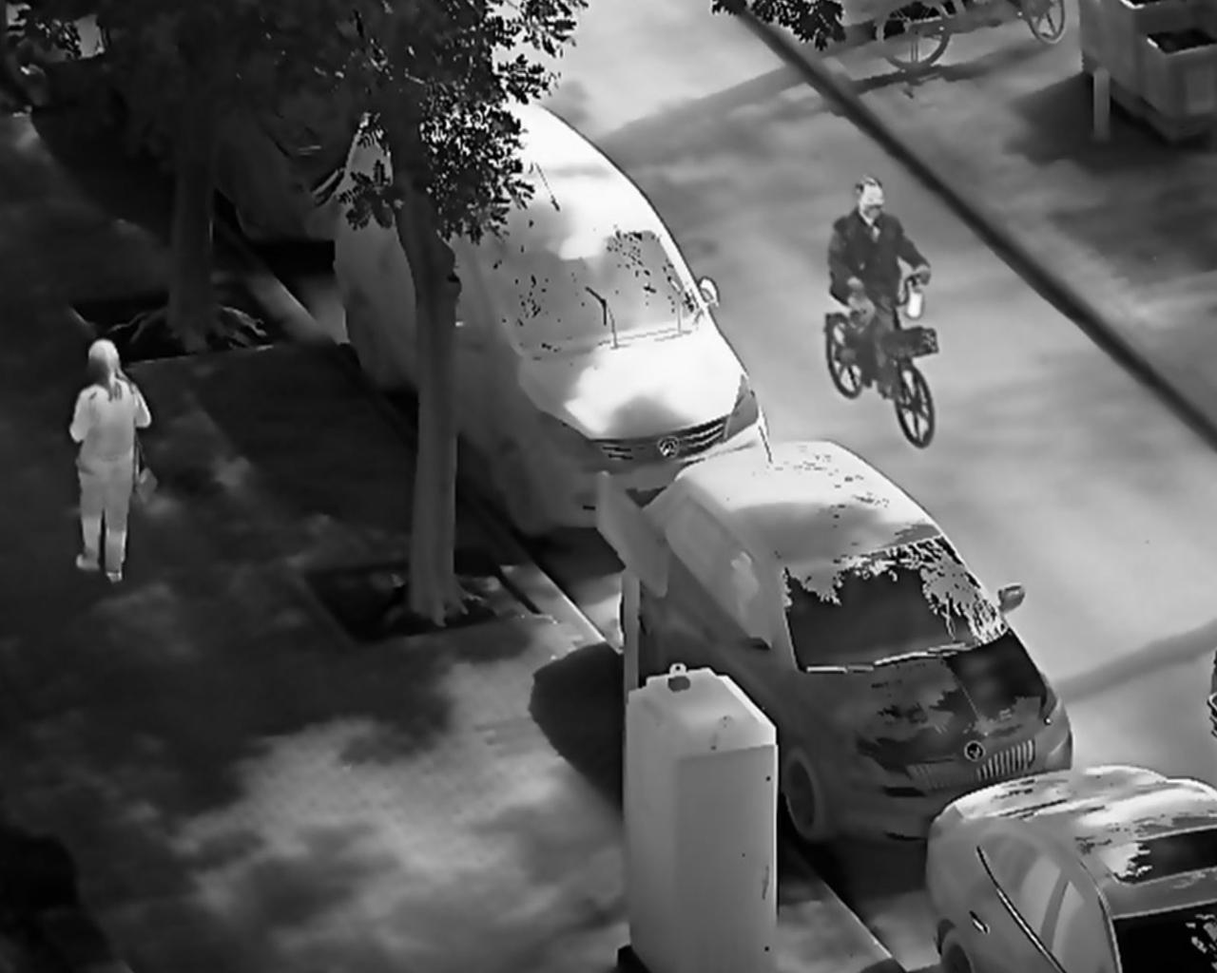person: (824, 171, 936, 408), (68, 336, 157, 588)
